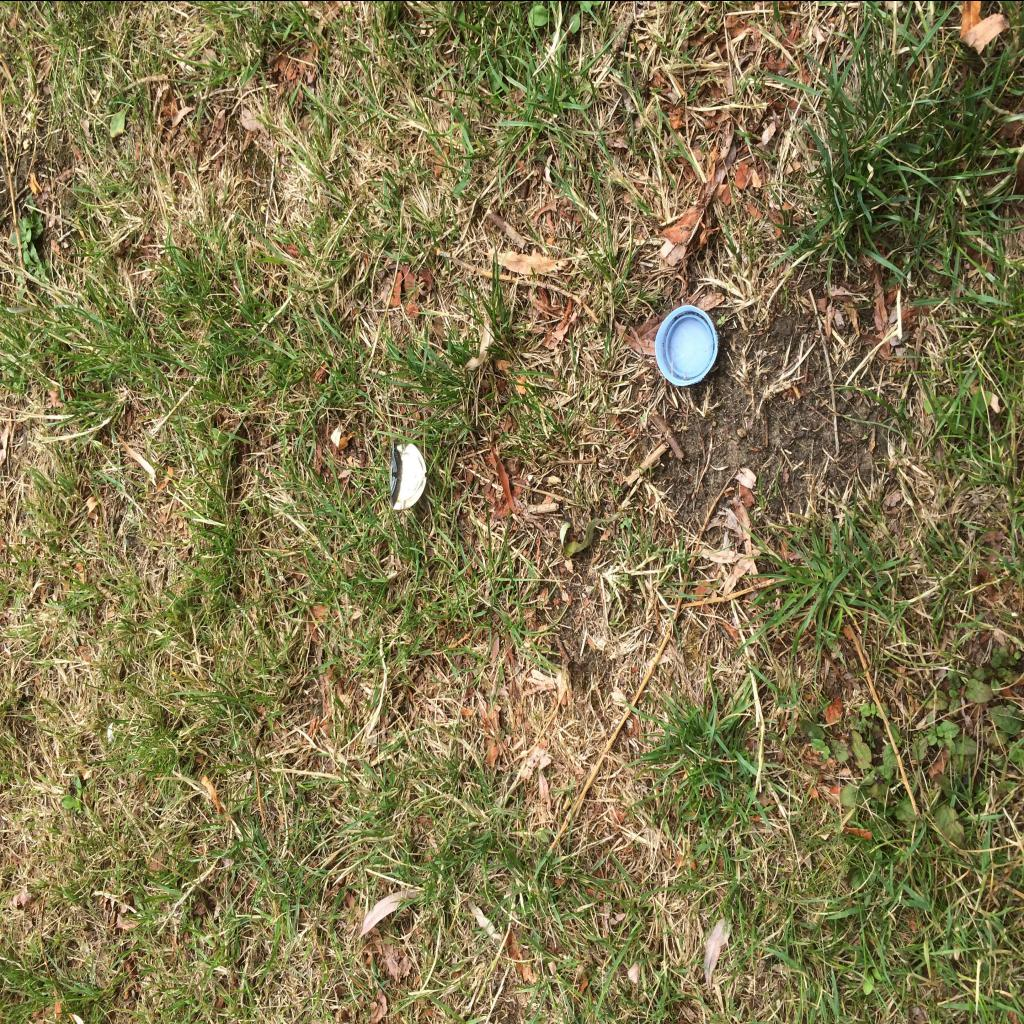Metal bottle cap: (390, 439, 428, 509)
Plastic bottle cap: (654, 304, 718, 384)
